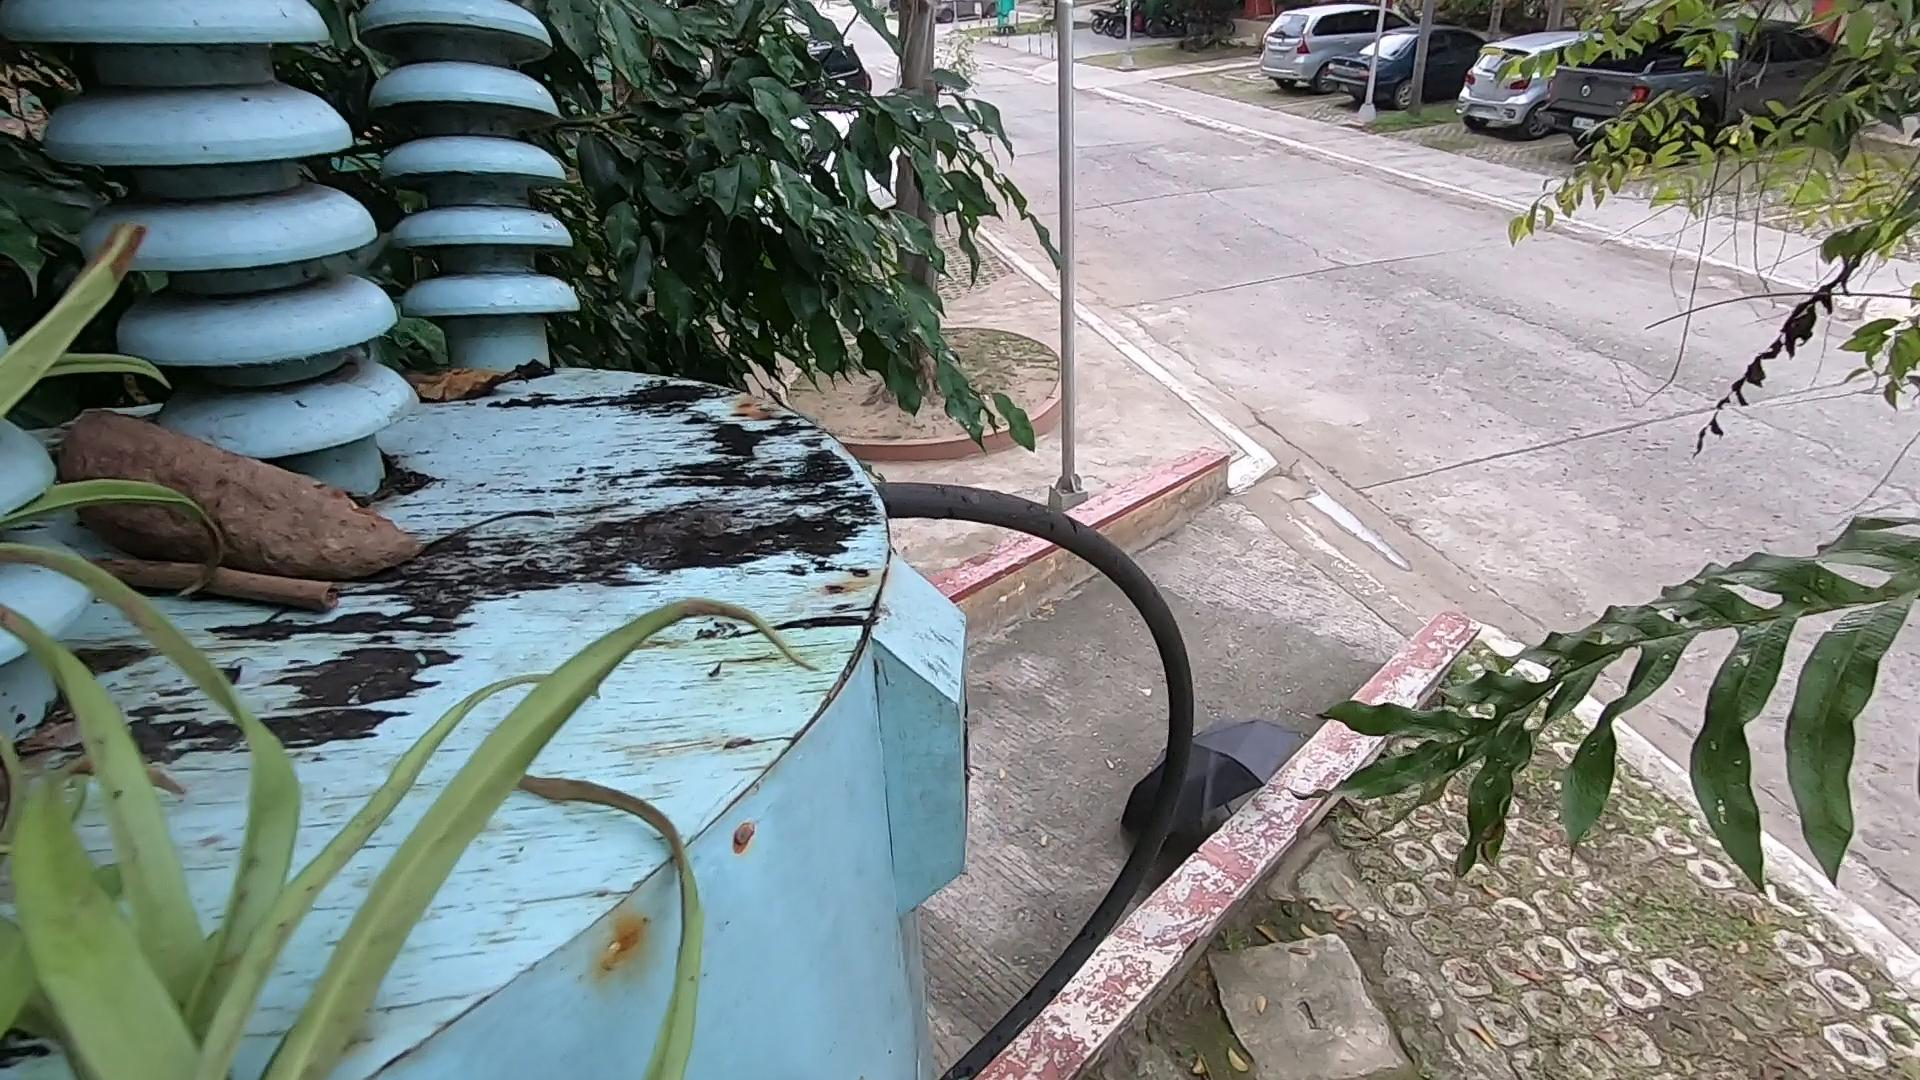leaf: (8, 509, 653, 1058), (411, 361, 576, 405)
mahogany fruit: (26, 344, 460, 545)
tree branch: (75, 560, 378, 625)
